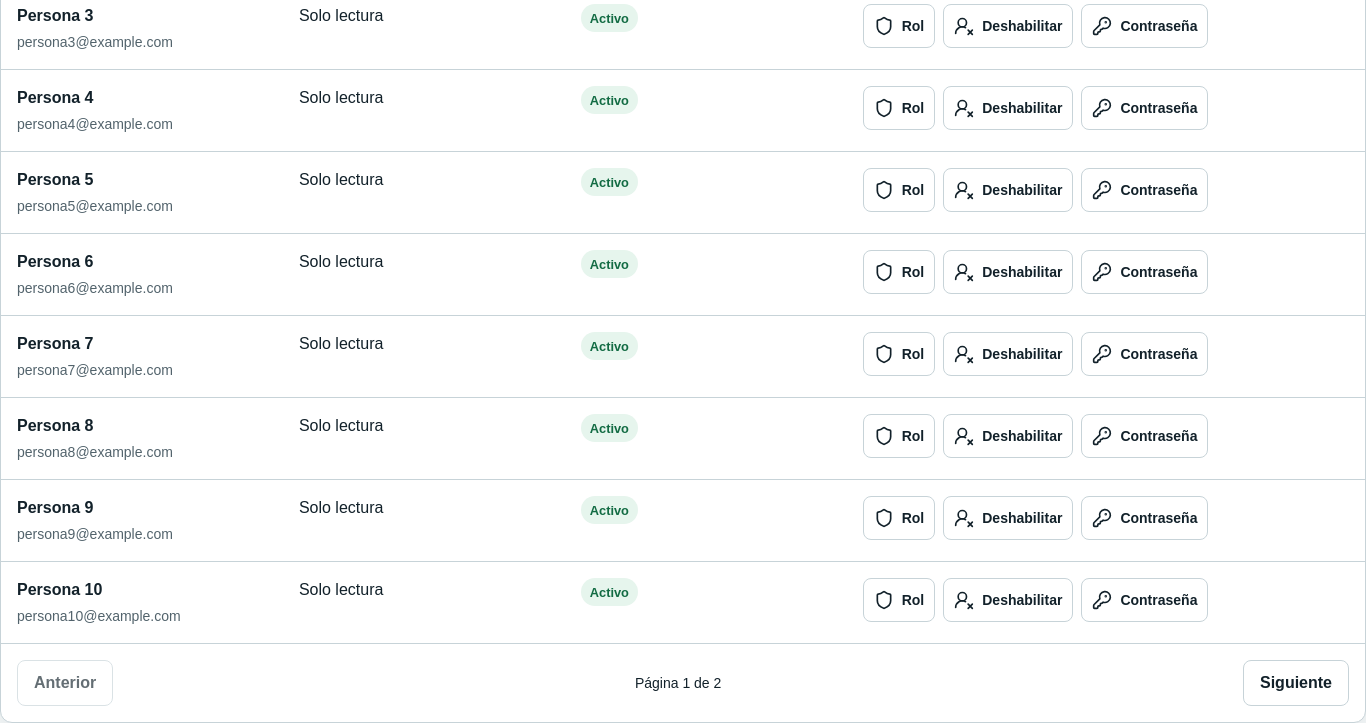
Test: Users › paginates the complete backend list locally
(page scrolled)
Expected: the text "Persona 11" is not shown
What coordinates should you click on to do the following:
click the button "Siguiente"
I would click on:
 (1296, 683)
Its box is [1243,660,1349,706].
(page scrolled)
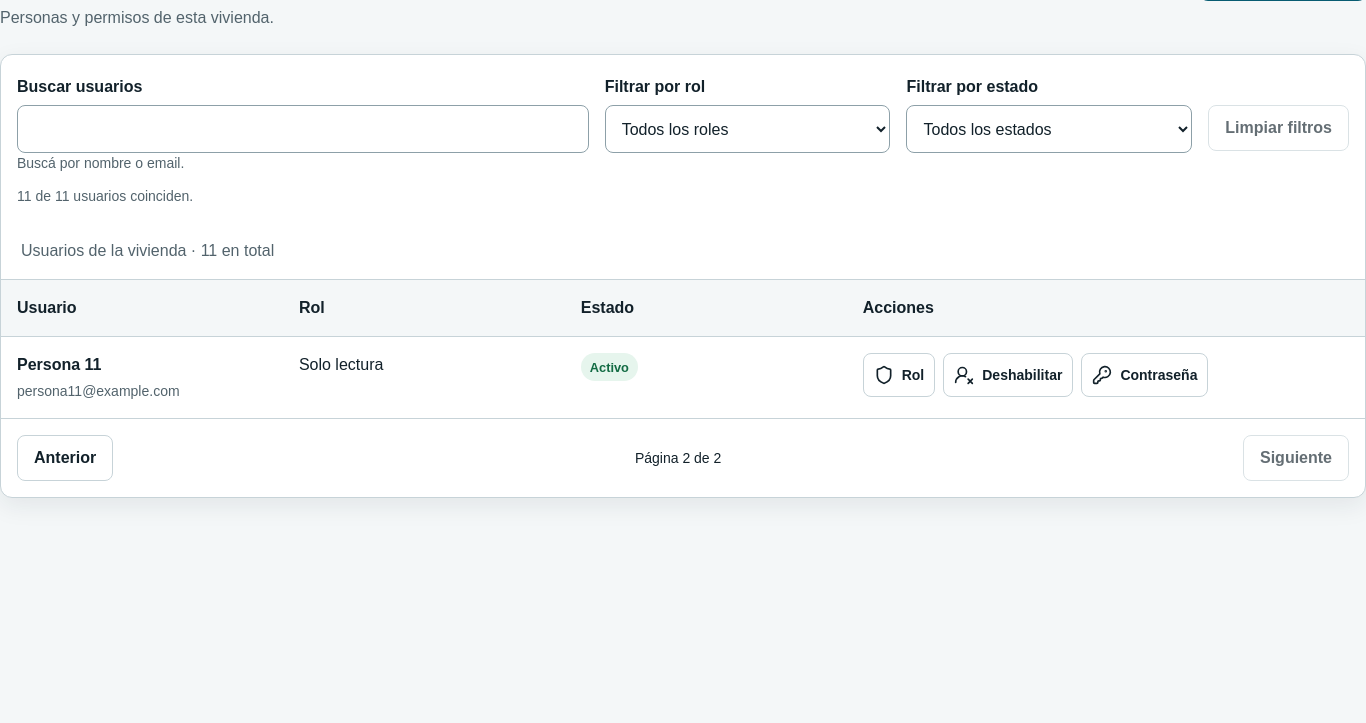
Now the text "Persona 11" is shown, box [17,356,102,373]
